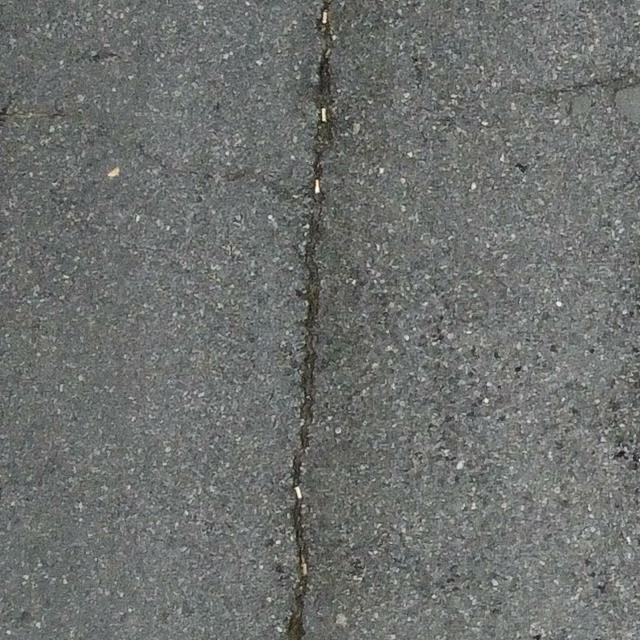LongitudinalCrack: (280, 1, 336, 639)
